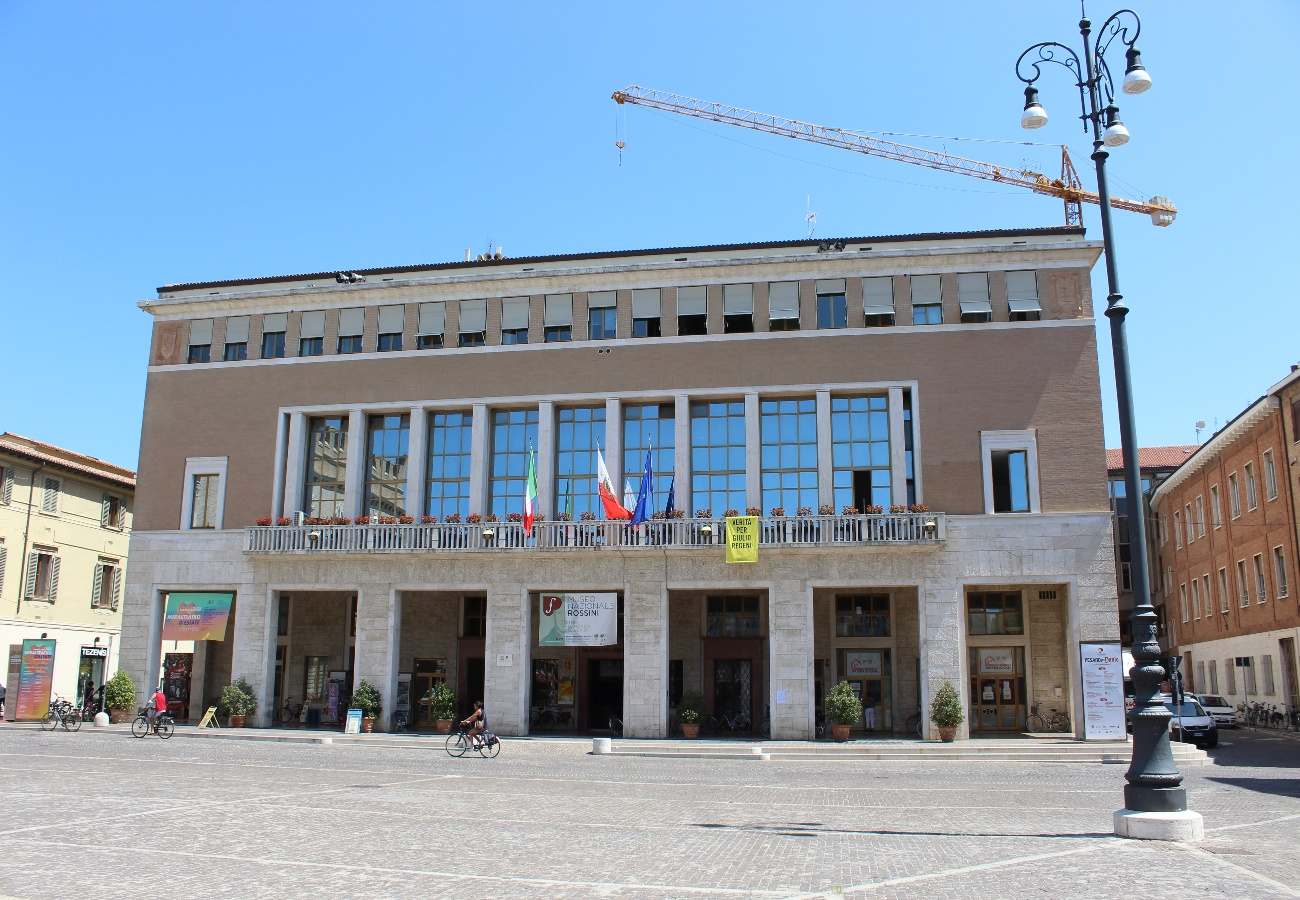Palazzo Comunale: (125, 227, 1108, 739)
